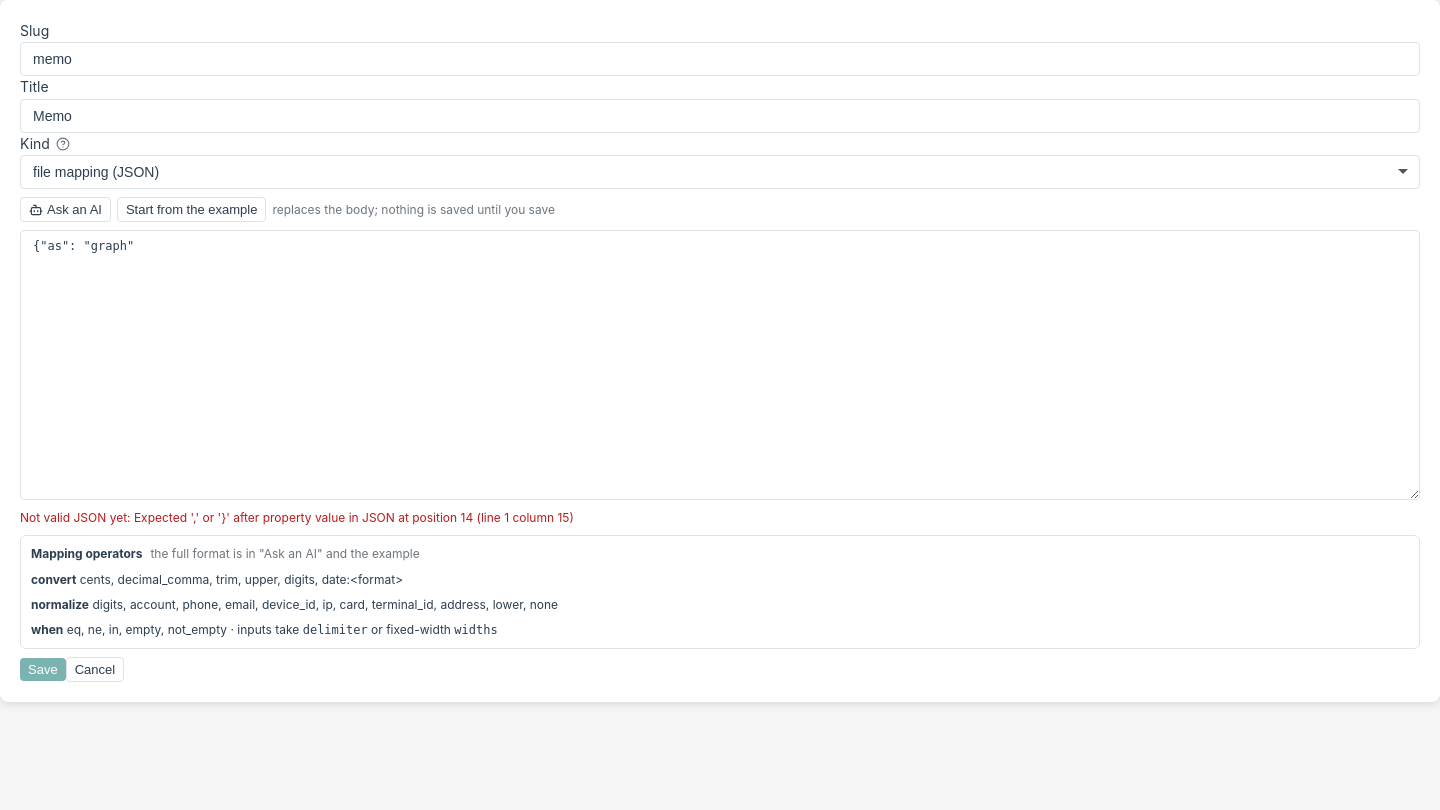
Scenario: LibraryDocEditor (06) › a file mapping: operators from the server; invalid JSON blocks Save
expect the element with test id "library-reference" shows "terminal_id": met, box [89,597,558,612]
expect the text with test id "library-mapping-error" shows "Not valid JSON": met, box [20,510,574,525]
Click the button with test id "library-example". click: [192, 210]
box: [117,197,266,222]
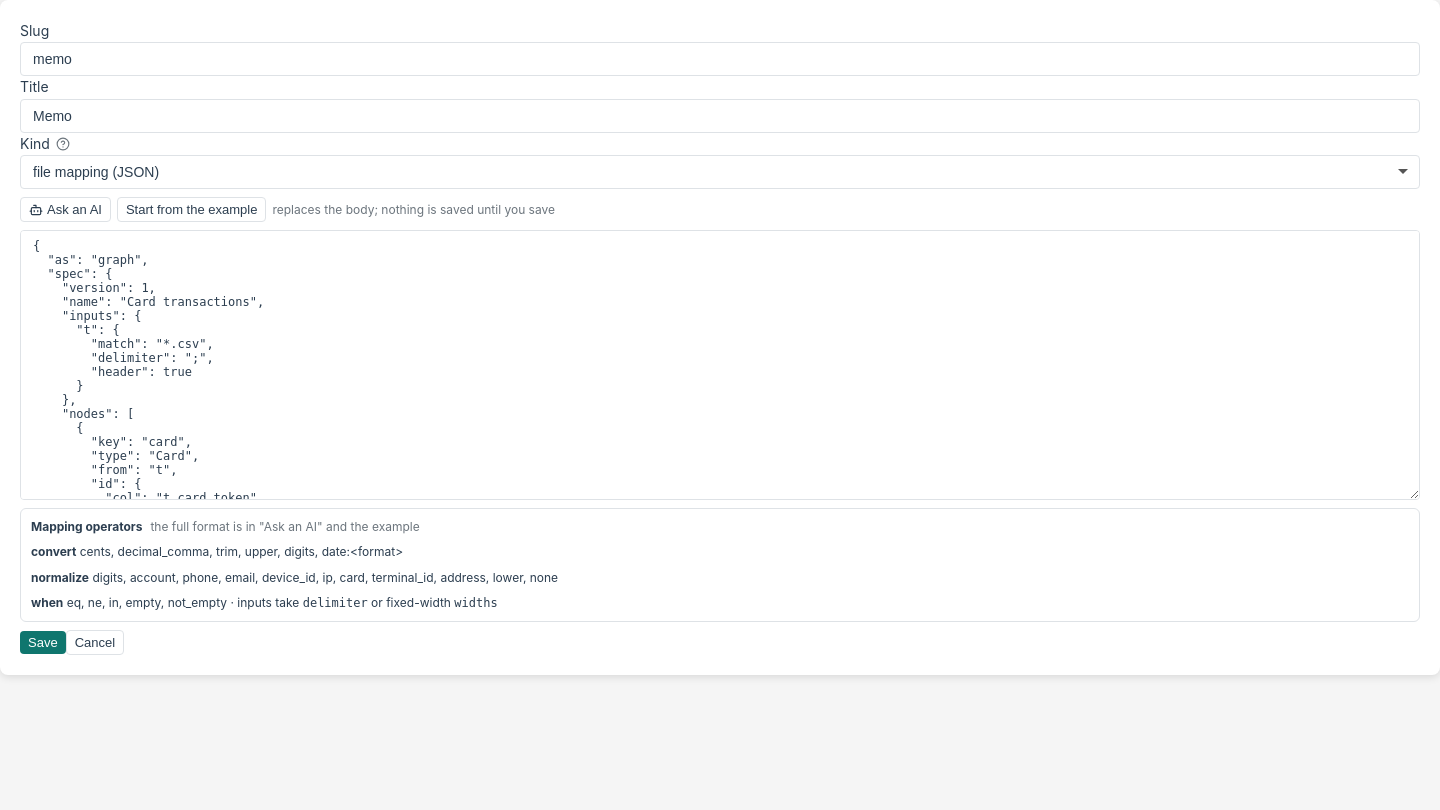
expect the text with test id "library-mapping-error" is gone: met
expect the button with test id "admin-library-save" is enabled: met, box [20,631,66,654]
